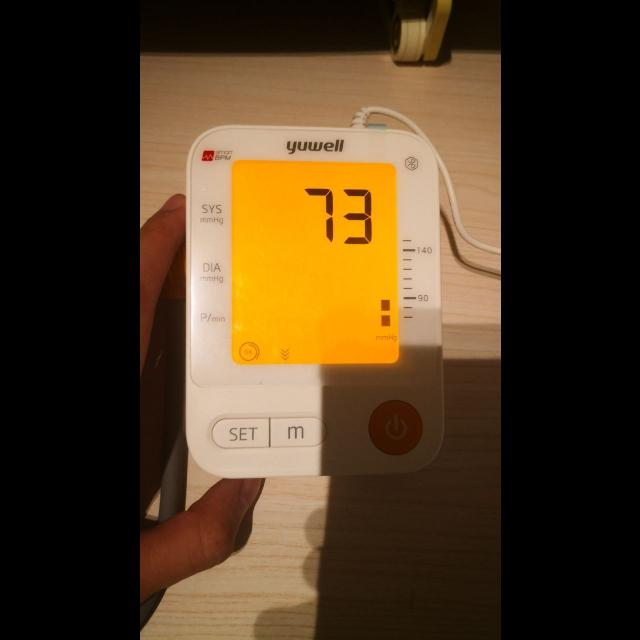Blood-Pressure-Monitor: (184, 124, 446, 478)
